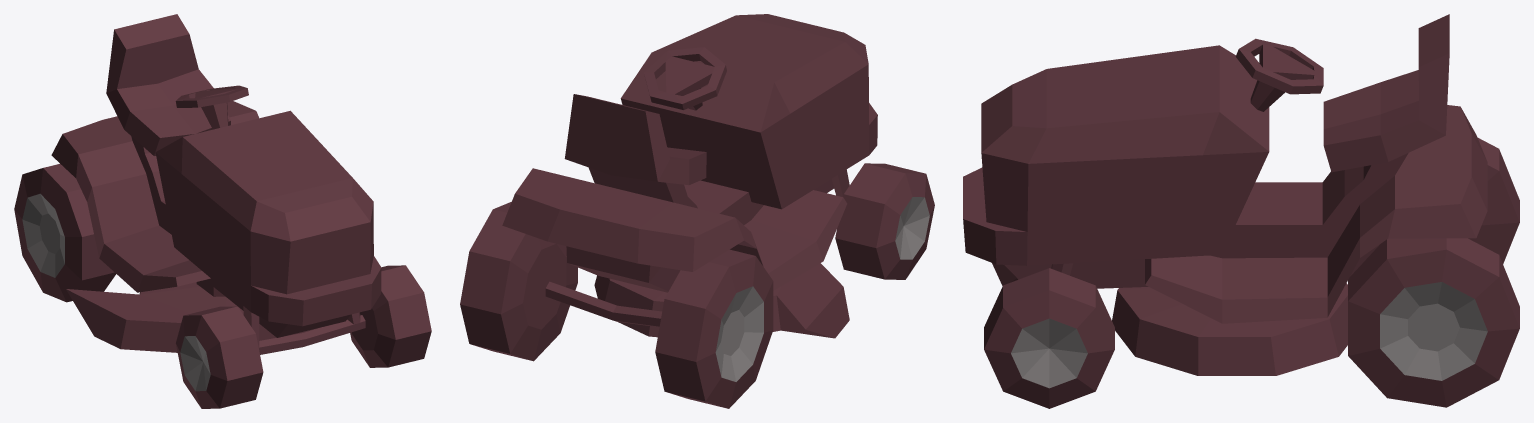
File: lawn-mower-ride.fbx
3 renders of one model, left to right at view 1: azimuth 30°, elevation 25°; view 2: azimuth 150°, elevation 25°; view 3: azimuth 270°, elevation 25°, orthographic. The views are drawn at different scales.
Parts seen in each view (by area): view 1: lawn-mower-ride-base, lawn-mower-ride_BR, lawn-mower-ride_FR, lawn-mower-ride_FL; view 2: lawn-mower-ride-base, lawn-mower-ride_BR, lawn-mower-ride_BL, lawn-mower-ride_FR; view 3: lawn-mower-ride-base, lawn-mower-ride_BL, lawn-mower-ride_FL, lawn-mower-ride_BR.
Part boxes in pixels (left/top/right/bottom): lawn-mower-ride-base: left=51, top=14, right=381, bottom=354; lawn-mower-ride_BR: left=14, top=164, right=115, bottom=302; lawn-mower-ride_FR: left=176, top=306, right=263, bottom=408; lawn-mower-ride_FL: left=350, top=265, right=431, bottom=367; lawn-mower-ride-base: left=502, top=14, right=877, bottom=338; lawn-mower-ride_BR: left=655, top=249, right=773, bottom=408; lawn-mower-ride_BL: left=460, top=202, right=577, bottom=361; lawn-mower-ride_FR: left=835, top=163, right=934, bottom=279; lawn-mower-ride-base: left=963, top=14, right=1487, bottom=375; lawn-mower-ride_BL: left=1348, top=238, right=1519, bottom=407; lawn-mower-ride_FL: left=984, top=268, right=1114, bottom=408; lawn-mower-ride_BR: left=1468, top=137, right=1519, bottom=263.
Size of the model in its own units: 1.26 by 1.27 by 2.05.
